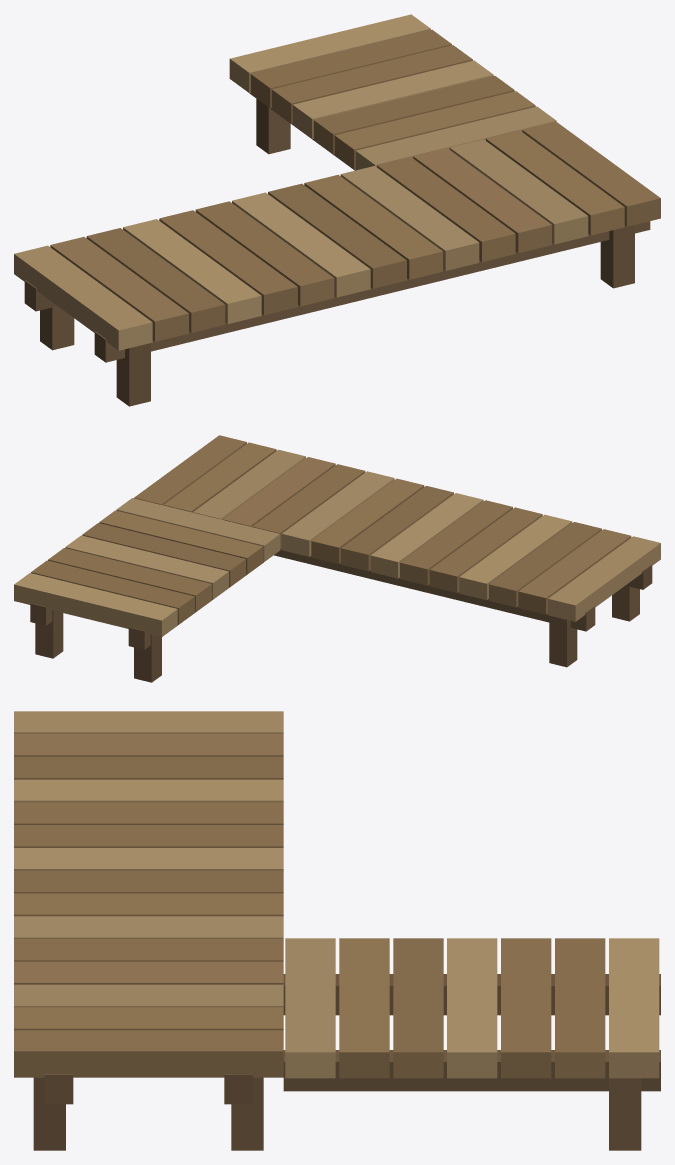
The model's file is boardwalk-corner.glb.
3 views of the same model, one above another, from view 1: azimuth 30°, elevation 25°; view 2: azimuth 150°, elevation 25°; view 3: azimuth 270°, elevation 25° (orthographic). The views are drawn at different scales.
Parts seen in each view (by area): view 1: boardwalk-corner; view 2: boardwalk-corner; view 3: boardwalk-corner.
Boxes of the visible parts, x1,y1,x2,y2 form: boardwalk-corner: (14, 14, 660, 406); boardwalk-corner: (14, 435, 660, 682); boardwalk-corner: (14, 711, 660, 1150).
Bounding box in the file's own units: 4.5 × 0.68 × 3.6.
